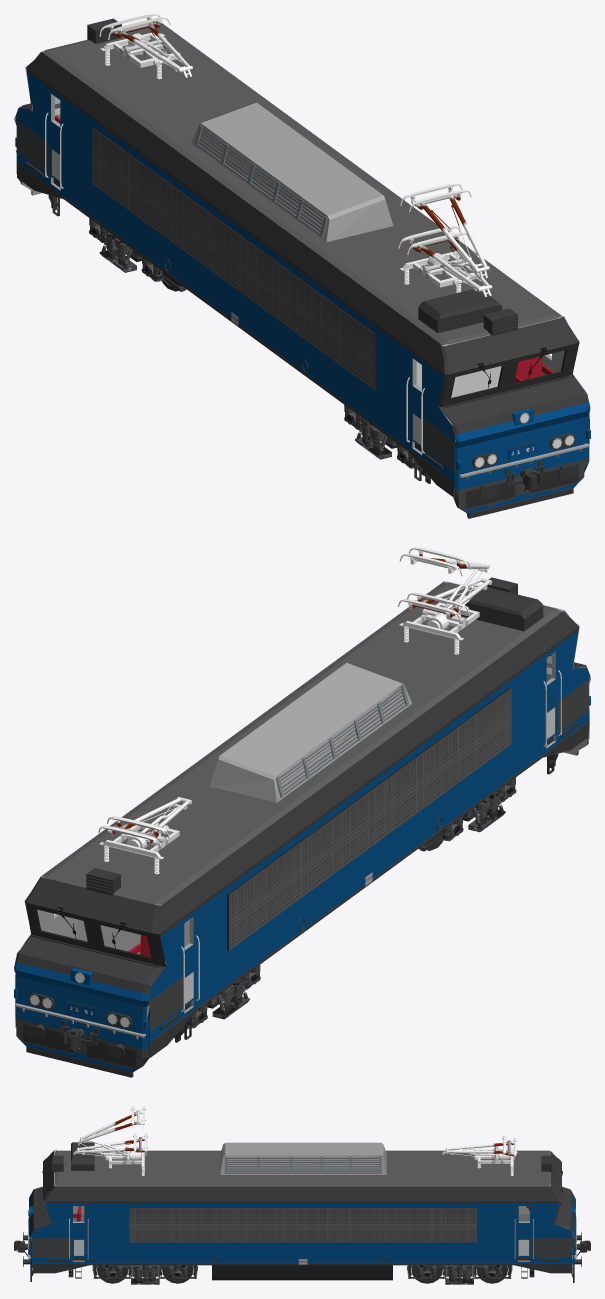
3 views of the same model, one above another, from view 1: azimuth 30°, elevation 25°; view 2: azimuth 150°, elevation 25°; view 3: azimuth 270°, elevation 25° (orthographic). The views are drawn at different scales.
Visible parts, largest first — view 1: loco_side, loco_jibung, loco_front, loco_frontparts, loco_aircon, loco_DT21, pan_base, loco_pan_side, pan_up_body, loco_bbbalpan, pan_down_body, loco_frontbupums; view 2: loco_side, loco_jibung, loco_front, loco_frontparts, loco_aircon, loco_DT21, pan_base, loco_pan_side, loco_frontbupums, loco_bbbalpan, pan_down_body, pan_up_body; view 3: loco_side, loco_frontparts, loco_jibung, loco_aircon, loco_DT21, loco_badak, loco_front, pan_base, loco_pan_side, pan_up_body, pan_down_body, loco_frontbupums (+1 smaller).
Part boxes in pixels (<box>): loco_side: <box>15,52,589,496</box>; loco_jibung: <box>42,23,561,397</box>; loco_front: <box>14,22,590,518</box>; loco_frontparts: <box>15,112,590,483</box>; loco_aircon: <box>87,18,517,336</box>; loco_DT21: <box>89,218,424,475</box>; pan_base: <box>100,32,478,292</box>; loco_pan_side: <box>398,226,492,297</box>; pan_up_body: <box>411,189,489,281</box>; loco_bbbalpan: <box>55,115,554,460</box>; pan_down_body: <box>110,19,192,78</box>; loco_frontbupums: <box>479,460,578,498</box>; loco_side: <box>14,612,589,1057</box>; loco_jibung: <box>40,582,562,954</box>; loco_front: <box>14,581,590,1077</box>; loco_frontparts: <box>14,663,590,1042</box>; loco_aircon: <box>86,577,543,895</box>; loco_DT21: <box>174,777,516,1037</box>; pan_base: <box>99,602,479,874</box>; loco_pan_side: <box>398,577,492,621</box>; loco_frontbupums: <box>25,1020,124,1058</box>; loco_bbbalpan: <box>66,872,372,1019</box>; pan_down_body: <box>109,797,192,845</box>; pan_up_body: <box>410,553,489,613</box>; loco_side: <box>31,1186,573,1273</box>; loco_frontparts: <box>28,1170,576,1278</box>; loco_jibung: <box>54,1150,550,1186</box>; loco_aircon: <box>52,1142,552,1174</box>; loco_DT21: <box>92,1265,512,1284</box>; loco_badak: <box>73,1214,529,1280</box>; loco_front: <box>29,1149,575,1282</box>; pan_base: <box>105,1146,513,1175</box>; loco_pan_side: <box>73,1133,148,1156</box>; pan_up_body: <box>78,1110,144,1156</box>; pan_down_body: <box>442,1140,514,1156</box>; loco_frontbupums: <box>14,1232,590,1266</box>.
Bounding box in the file's own units: 3.23 × 5.74 × 18.64.
